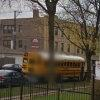Bus: (22, 46, 86, 80)
